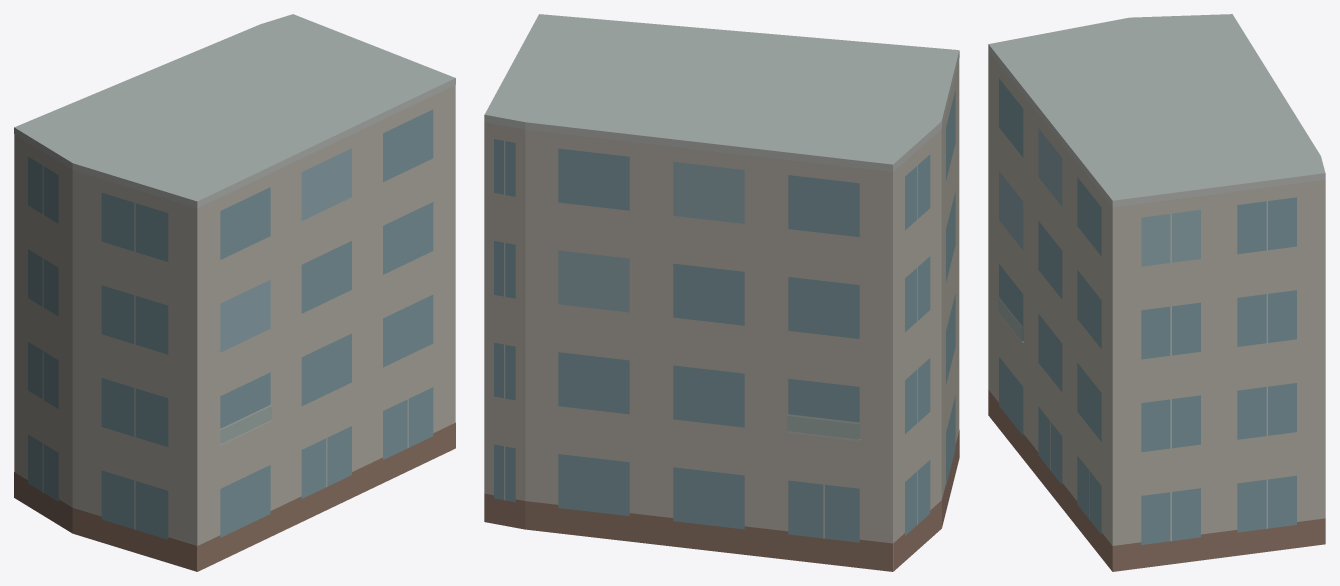
Rendered from survey-upis-32851423.glb.
3 renders of one model, left to right at view 1: azimuth 30°, elevation 25°; view 2: azimuth 150°, elevation 25°; view 3: azimuth 270°, elevation 25°, orthographic. The views are drawn at different scales.
Parts seen in each view (by area): view 1: survey-upis-32851423.tmp; view 2: survey-upis-32851423.tmp; view 3: survey-upis-32851423.tmp.
Part boxes in pixels (x1=…): survey-upis-32851423.tmp: x1=14, y1=14, x2=455, y2=571; survey-upis-32851423.tmp: x1=484, y1=14, x2=959, y2=571; survey-upis-32851423.tmp: x1=988, y1=14, x2=1325, y2=571.
Bounding box in the file's own units: 14.36 × 13.3 × 10.96.
